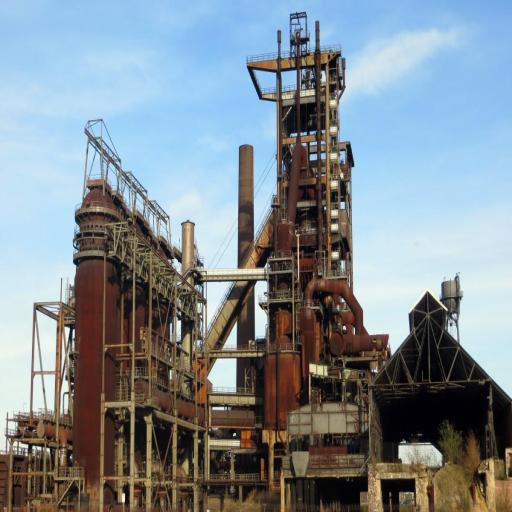segmentation: (300, 267, 376, 365), (73, 259, 103, 487), (265, 310, 299, 431), (275, 135, 308, 252), (282, 135, 309, 225), (300, 307, 315, 361), (106, 283, 118, 341), (287, 148, 304, 186), (104, 352, 116, 399), (104, 417, 113, 473), (330, 330, 344, 356), (300, 308, 309, 334)
